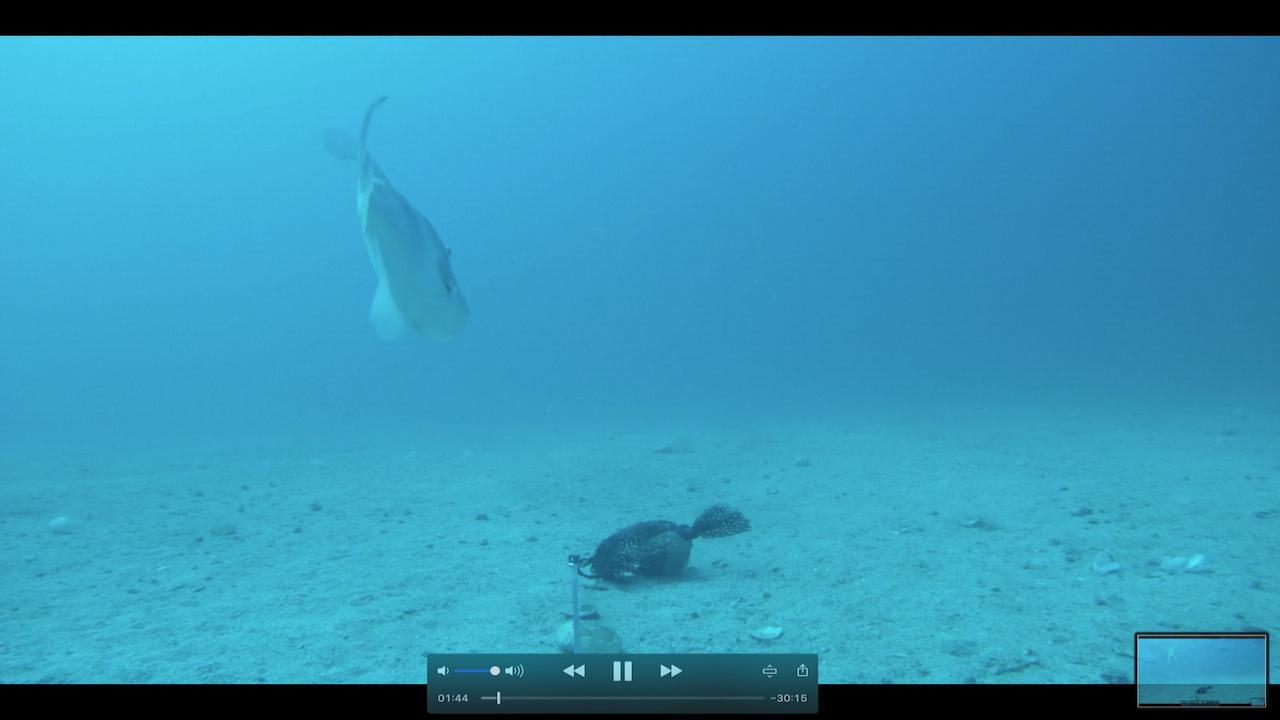balistes: (309, 87, 471, 346)
